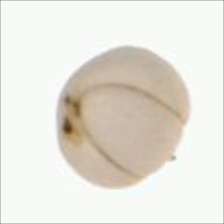L5: (78, 82, 188, 181), (56, 63, 85, 124), (161, 142, 180, 167)
L6: (49, 44, 192, 191)
